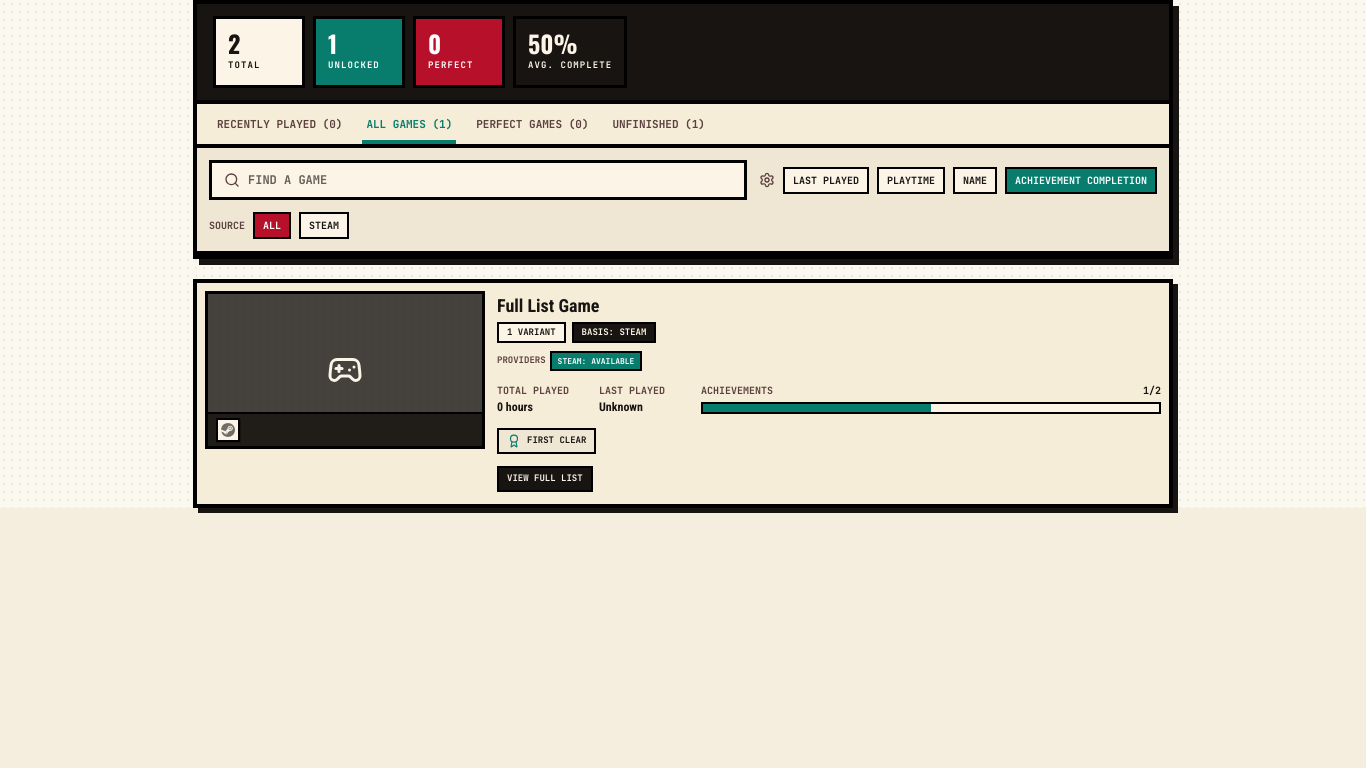
Scenario: AchievementsPage › opens the full achievement list like the library viewer
The image size is (1366, 768).
Click the button "View Full List" at [545, 479], box [497,466,593,492]
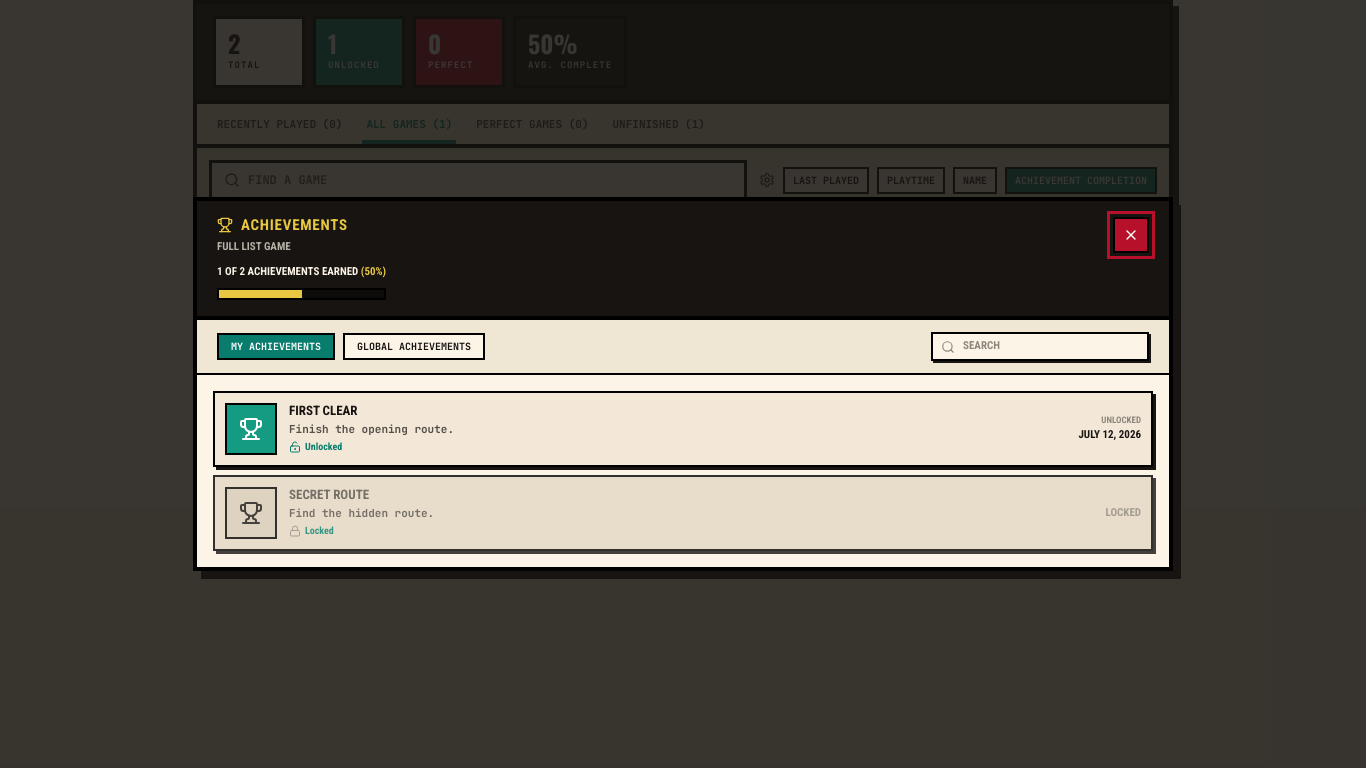
Check: the text "1 of 2 achievements earned" is shown, box [217,264,386,280]
Check: the text "First Clear" is shown, box [289,403,358,418]
Check: the text "Secret Route" is shown, box [289,487,369,502]
